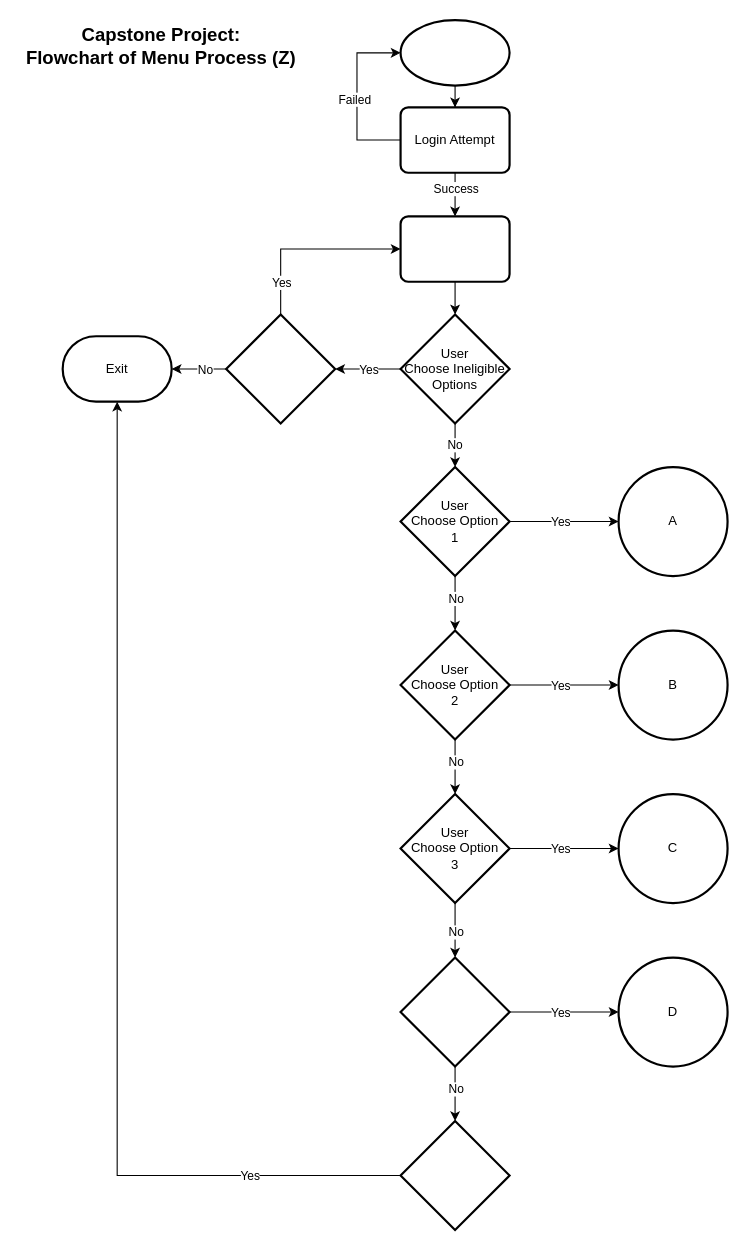
Image size: 747x1249. Some labels were removed from this diagram. The shapes that lost their labels are listed below. From the top down, each one's box as (x1, y1, x2, y2) in pixels, then its label:
(399, 19, 510, 86): Start
(399, 215, 510, 282): Display Menu Options (Z)
(225, 313, 336, 424): User Choose to Re-choose
(399, 956, 510, 1067): User Choose Option 4
(399, 1119, 510, 1231): User Choose Option 0
